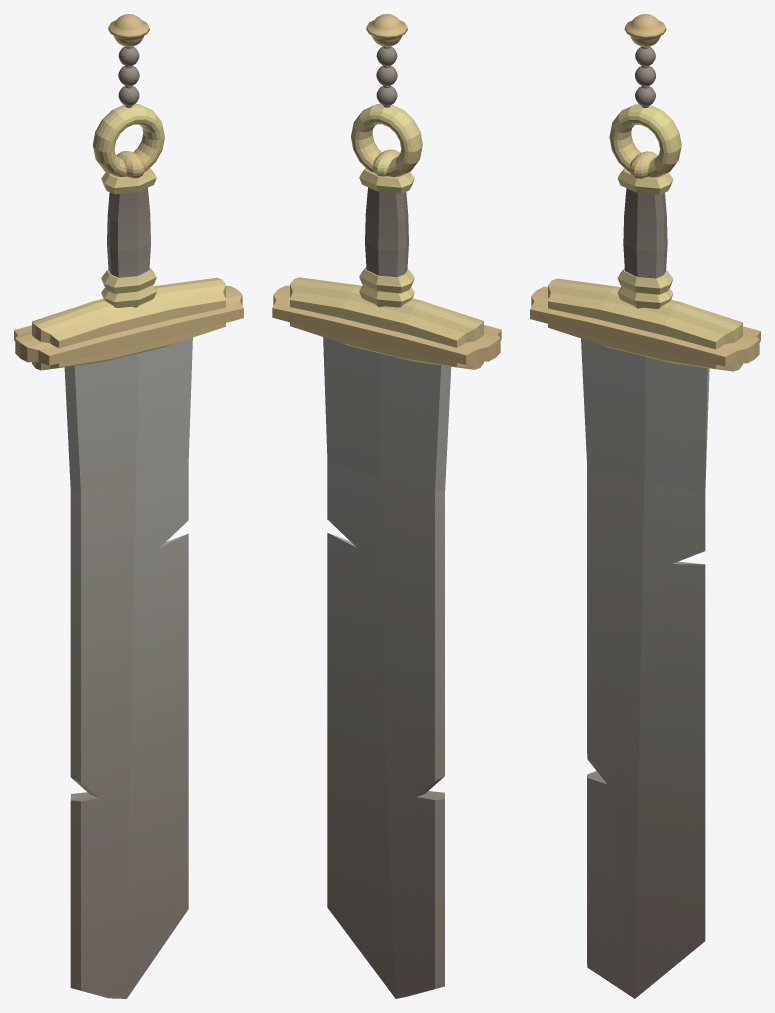
Rendered from Sword1.fbx.
3 views of the same model, side by side, from view 1: azimuth 30°, elevation 25°; view 2: azimuth 150°, elevation 25°; view 3: azimuth 330°, elevation 25° (orthographic).
Visible parts, largest first — view 1: sword1, sword_dangle; view 2: sword1, sword_dangle; view 3: sword1, sword_dangle.
Part boxes in pixels (bbox=[...]): sword1: bbox=[14, 104, 243, 998]; sword_dangle: bbox=[108, 14, 149, 107]; sword1: bbox=[272, 104, 501, 998]; sword_dangle: bbox=[366, 14, 407, 107]; sword1: bbox=[530, 104, 760, 998]; sword_dangle: bbox=[624, 14, 666, 108].
Size of the model in its own units: 4.26 by 18.32 by 1.2.
1 material, 1 textured.
